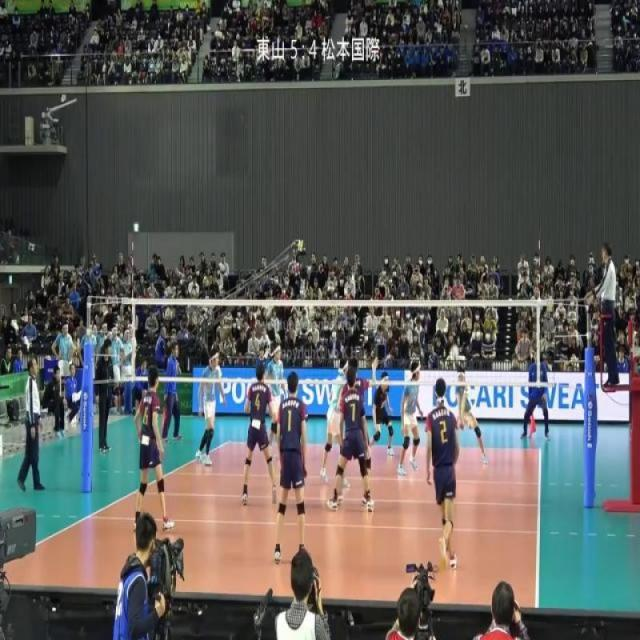volleyball: (449, 344, 459, 361)
